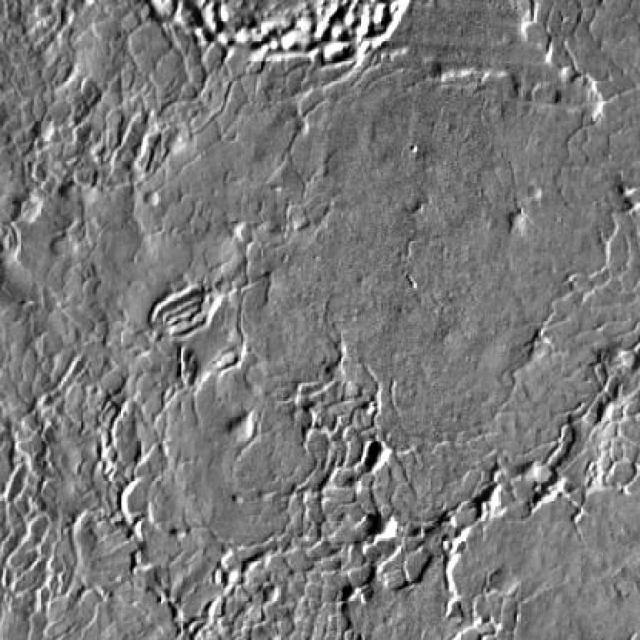crater: (32, 120, 54, 142)
